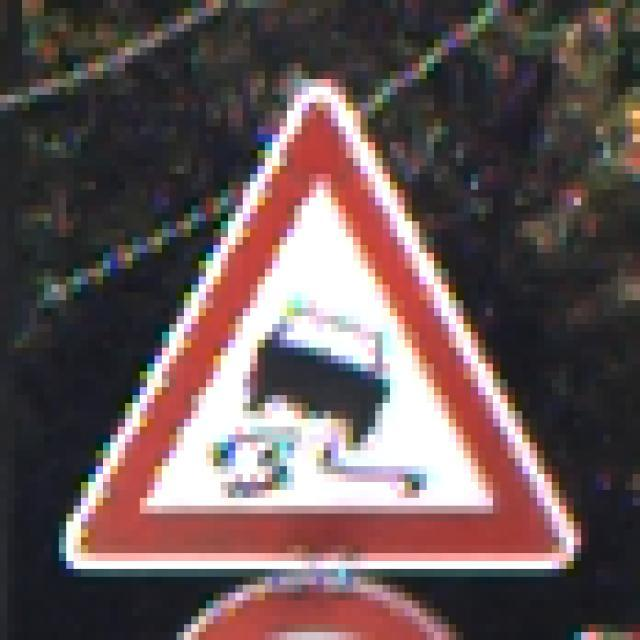slippery road: (71, 78, 578, 577)
